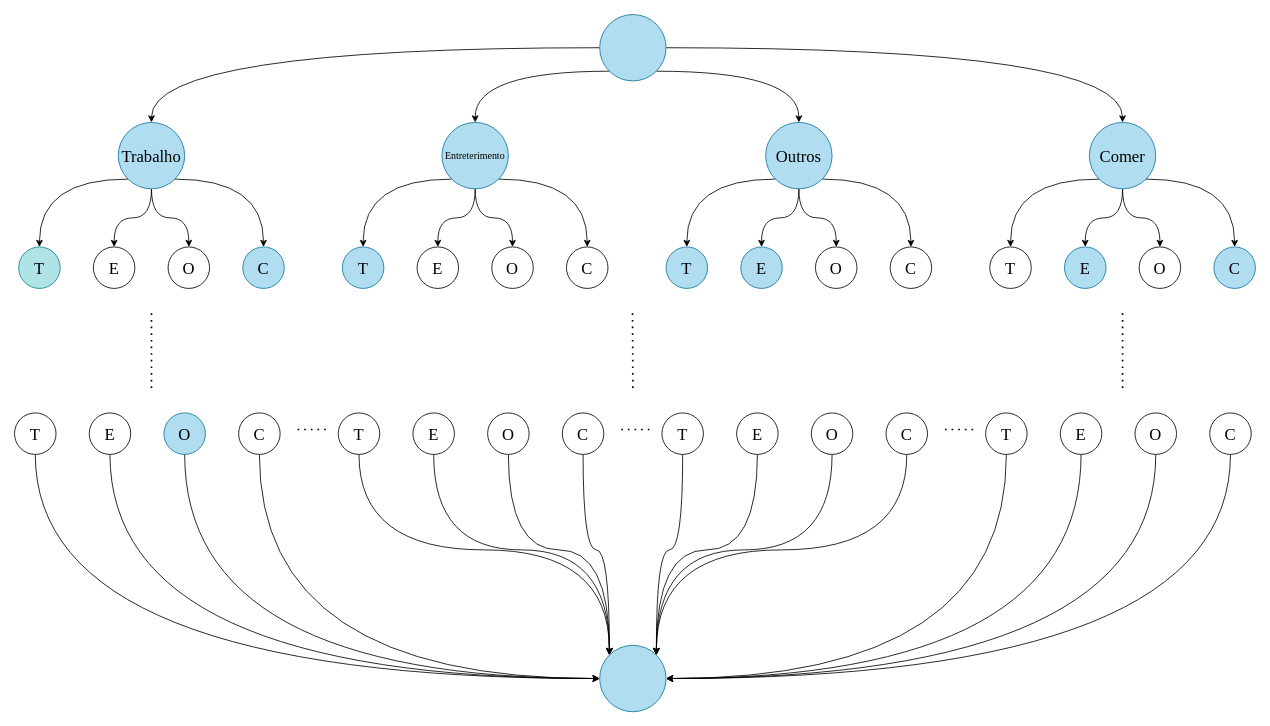
The diagram is 1270 pixels wide and 726 high, and some of its shapes have lost their labels. The shapes that lost their labels are listed below. From the top down, each one's centre as x and y in pixels, then its label:
At (632,47): "Acordar".
At (632,678): "Dormir".
